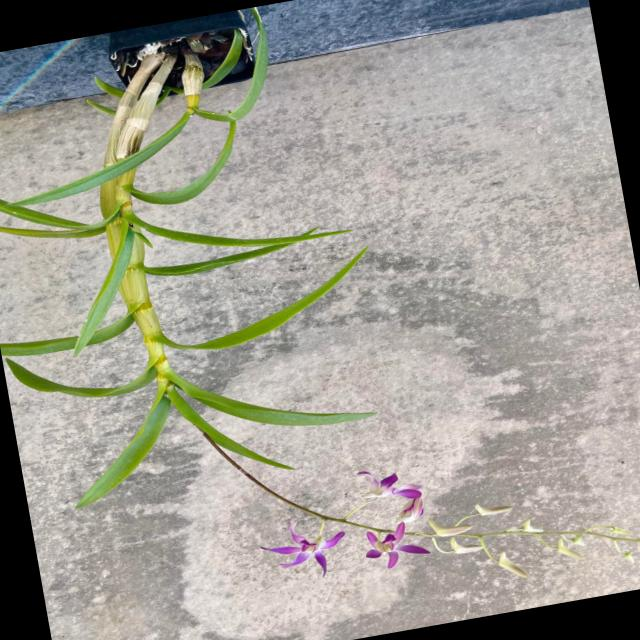flower: (262, 521, 344, 574), (366, 521, 429, 568), (358, 471, 421, 499)
leaf: (161, 247, 367, 349), (13, 116, 187, 206), (77, 379, 170, 507), (169, 368, 375, 425), (170, 385, 293, 469), (131, 122, 235, 204), (191, 16, 268, 122), (75, 227, 134, 354), (141, 220, 355, 246), (7, 360, 156, 396), (141, 243, 289, 275), (200, 29, 243, 91), (0, 199, 84, 227), (0, 336, 76, 355), (87, 314, 133, 345), (0, 226, 105, 237), (96, 76, 126, 97), (87, 100, 116, 115)
pot: (89, 6, 269, 109)
stem: (105, 54, 172, 166), (120, 266, 168, 368), (100, 169, 135, 218), (182, 51, 204, 106), (107, 219, 123, 263), (132, 240, 145, 263)
